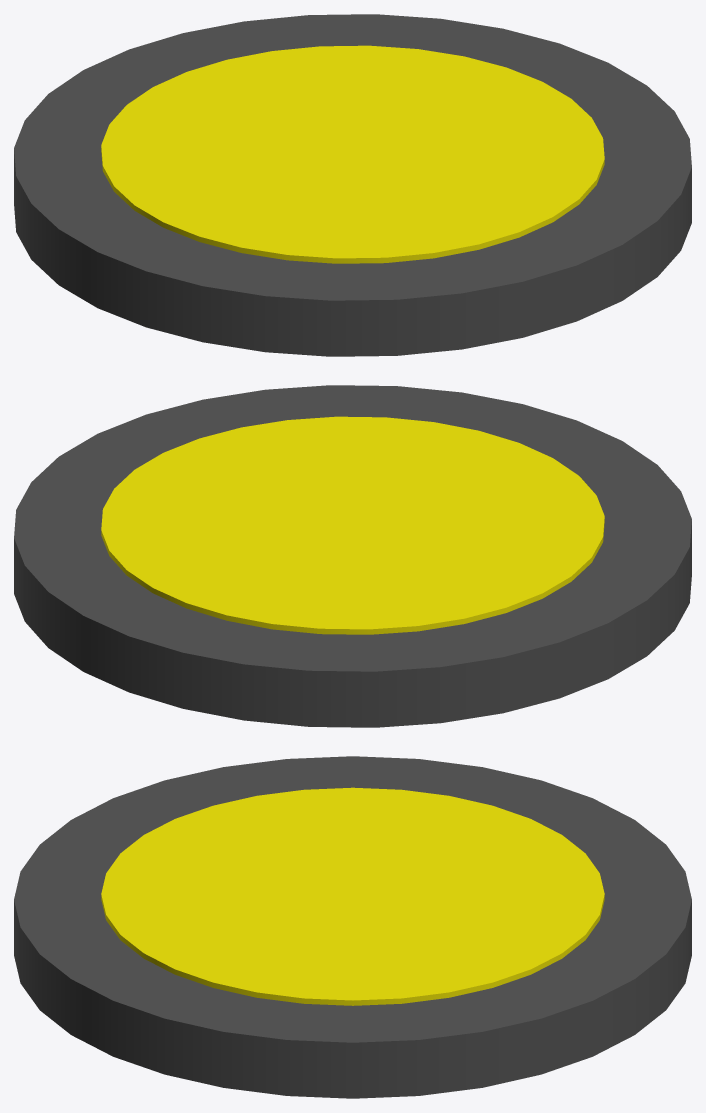
The model's file is button_yellow_pushed.fbx.
3 views of the same model, one above another, from view 1: azimuth 30°, elevation 25°; view 2: azimuth 150°, elevation 25°; view 3: azimuth 270°, elevation 25° (orthographic).
Parts seen in each view (by area): view 1: Mesh; view 2: Mesh; view 3: Mesh.
Boxes of the visible parts, x1=… form: Mesh: x1=14, y1=14, x2=691, y2=356; Mesh: x1=14, y1=385, x2=691, y2=727; Mesh: x1=14, y1=756, x2=691, y2=1098.
Size of the model in its own units: 1 by 0.0999 by 1.
